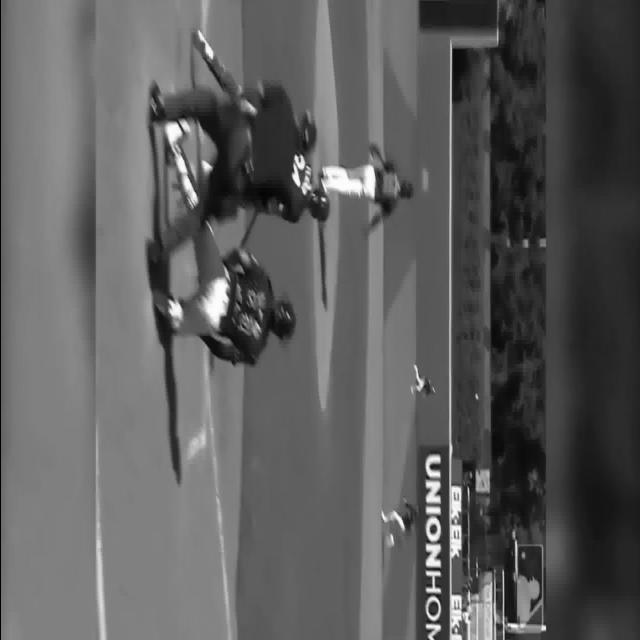baseball: (474, 392, 478, 400)
shoe: (152, 288, 182, 331), (176, 170, 198, 210), (191, 28, 213, 64), (149, 81, 165, 123), (164, 132, 176, 166), (386, 532, 394, 548), (380, 508, 386, 522)
